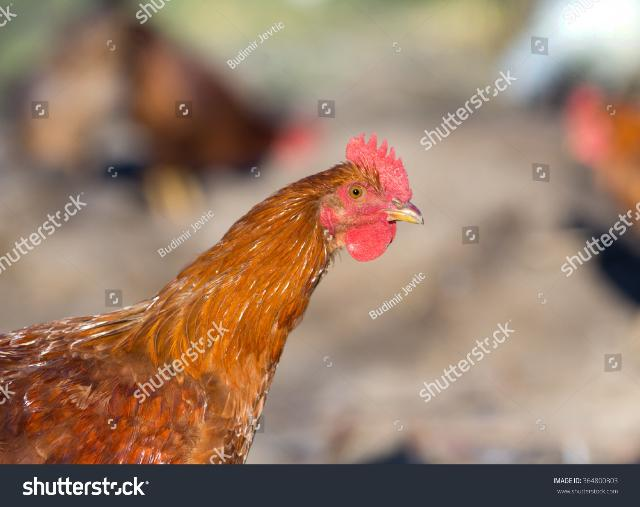Chicken: (0, 134, 422, 467)
